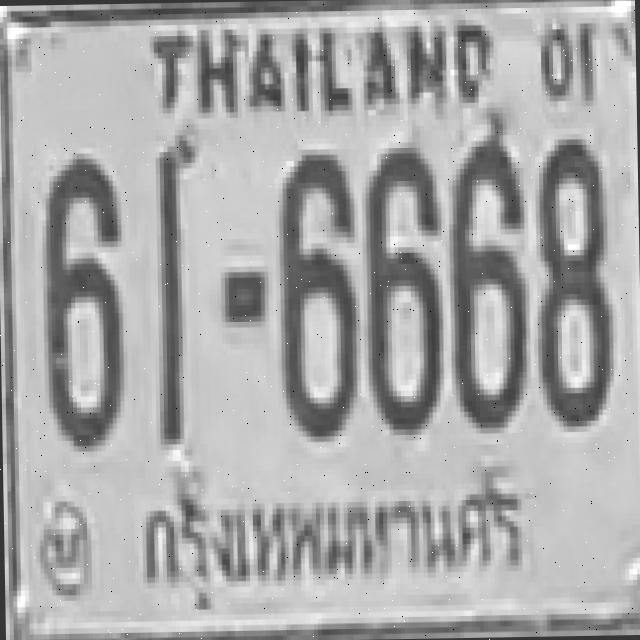1: (156, 143, 188, 414)
6: (41, 152, 120, 446), (274, 148, 354, 436), (360, 142, 440, 430), (448, 128, 524, 422)
8: (534, 133, 610, 421)
Bangkok: (128, 459, 535, 594)
